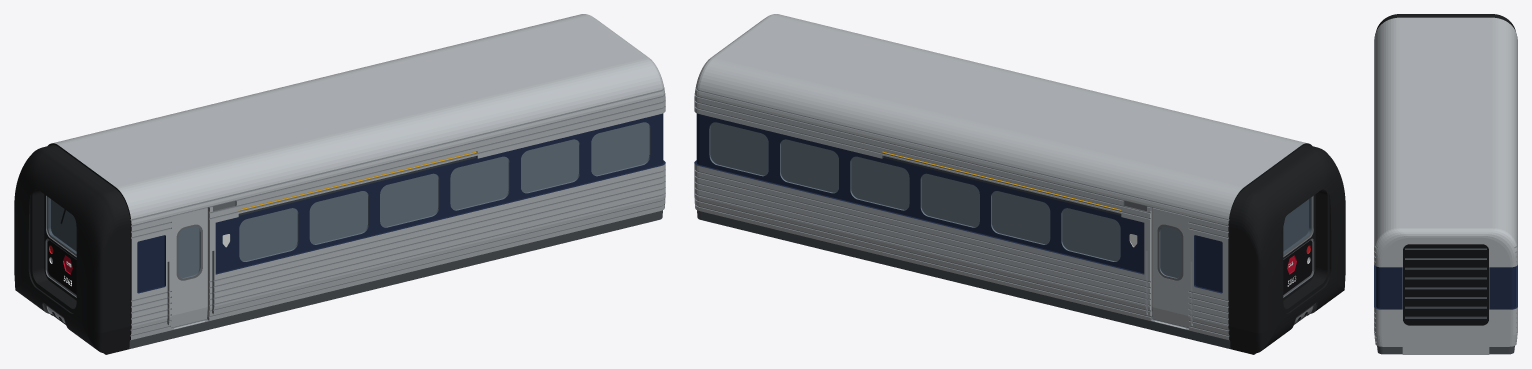
3 views of the same model, side by side, from view 1: azimuth 30°, elevation 25°; view 2: azimuth 150°, elevation 25°; view 3: azimuth 270°, elevation 25° (orthographic). The views are drawn at different scales.
Parts seen in each view (by area): view 1: dsb_ic3; view 2: dsb_ic3; view 3: dsb_ic3.
Part boxes in pixels (left/top/right/bottom): dsb_ic3: left=14, top=14, right=665, bottom=354; dsb_ic3: left=694, top=14, right=1345, bottom=354; dsb_ic3: left=1374, top=14, right=1517, bottom=354.
Bounding box in the file's own units: 150 × 38 × 40.
